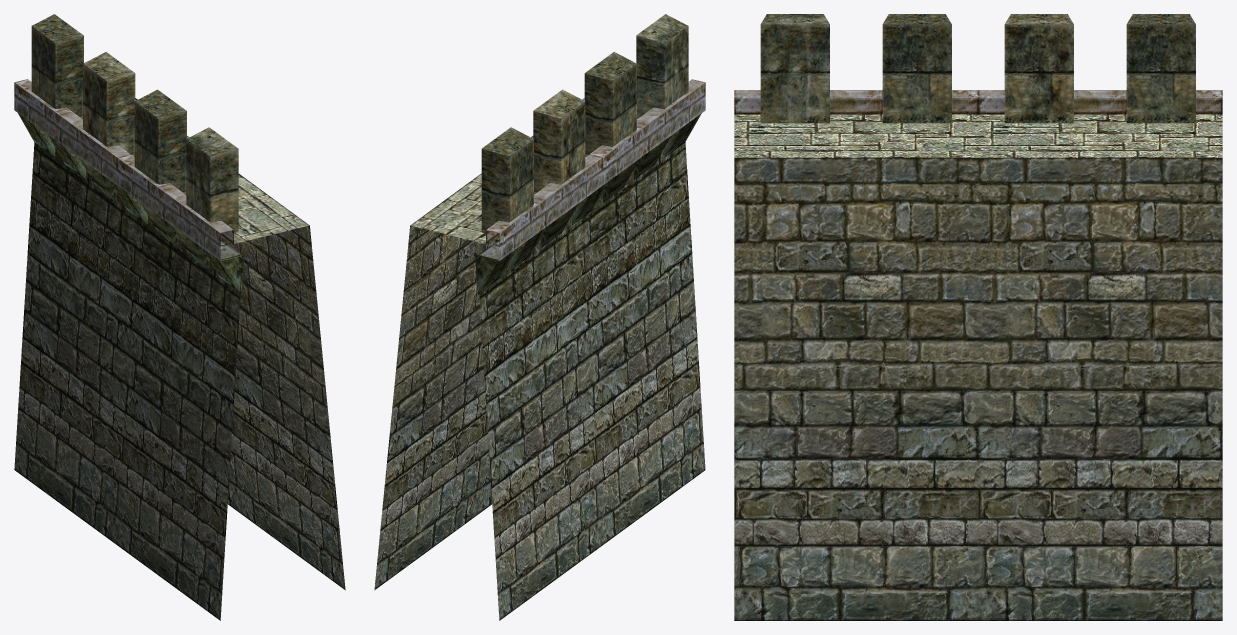
3 views of the same model, side by side, from view 1: azimuth 30°, elevation 25°; view 2: azimuth 150°, elevation 25°; view 3: azimuth 270°, elevation 25° (orthographic). The views are drawn at different scales.
Parts seen in each view (by area): view 1: cc25-col; view 2: cc25-col; view 3: cc25-col.
Part boxes in pixels (box(x1,y1,x2,y2)): cc25-col: box(14, 14, 345, 620); cc25-col: box(374, 14, 705, 620); cc25-col: box(734, 14, 1222, 620).
Size of the model in its own units: 2.8 by 9.79 by 8.
7 materials, 7 textured.
